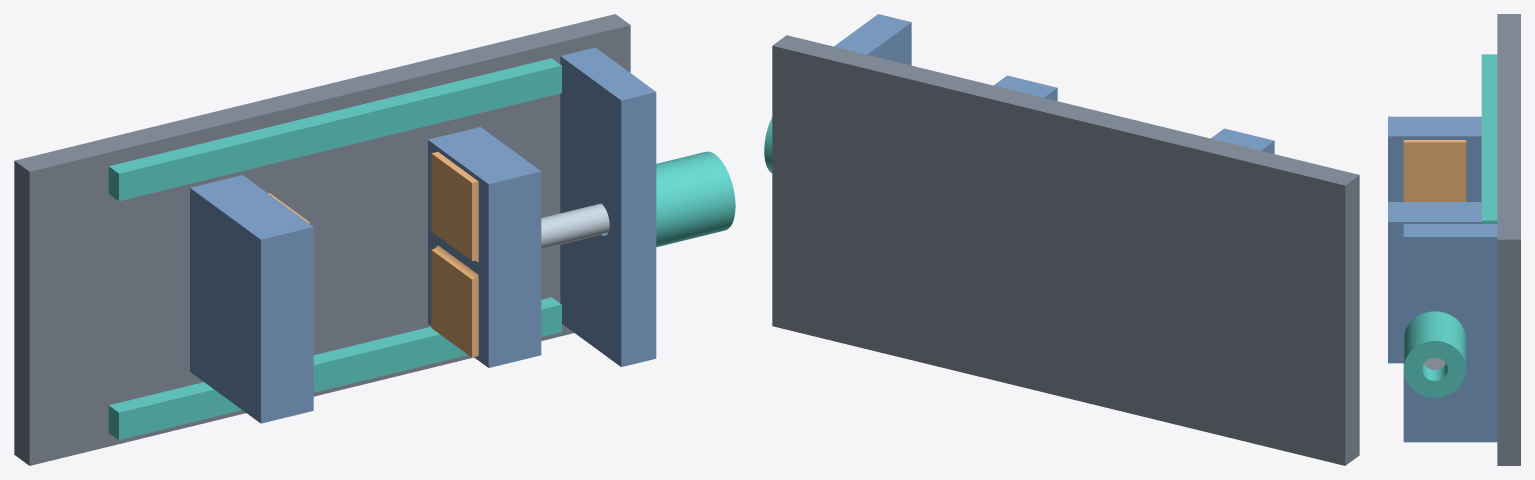
File: assembly.glb
3 views of the same model, side by side, from view 1: azimuth 30°, elevation 25°; view 2: azimuth 150°, elevation 25°; view 3: azimuth 270°, elevation 25° (orthographic). The views are drawn at different scales.
Visible parts, largest first — view 1: base, fixed_jaw, actuator_support, rail_right, moving_jaw, rail_left, moving_pad, actuator_body, rod; view 2: base, actuator_support, fixed_jaw, moving_jaw; view 3: actuator_support, base, actuator_body, moving_jaw, fixed_jaw, fixed_pad, rail_right, rod.
Boxes of the visible parts, x1,y1,x2,y2 form: base: [14, 14, 630, 465]; fixed_jaw: [190, 175, 313, 423]; actuator_support: [560, 47, 656, 366]; rail_right: [108, 58, 561, 200]; moving_jaw: [428, 127, 541, 367]; rail_left: [108, 297, 561, 440]; moving_pad: [431, 152, 478, 357]; actuator_body: [656, 151, 735, 247]; rod: [541, 203, 609, 249]; base: [772, 35, 1359, 465]; actuator_support: [834, 14, 911, 65]; fixed_jaw: [1211, 128, 1274, 153]; moving_jaw: [994, 75, 1057, 100]; actuator_support: [1403, 224, 1497, 442]; base: [1497, 14, 1520, 465]; actuator_body: [1403, 311, 1466, 397]; moving_jaw: [1388, 202, 1481, 363]; fixed_jaw: [1388, 116, 1481, 201]; fixed_pad: [1403, 140, 1466, 201]; rail_right: [1481, 54, 1497, 223]; rod: [1424, 357, 1445, 369].
Size of the model in its own units: 0.1609 by 0.0701 by 0.0372.
